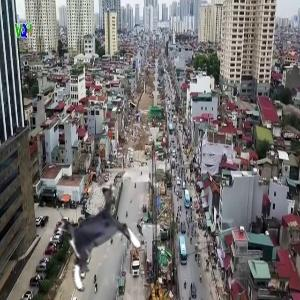drone: (47, 188, 147, 288)
